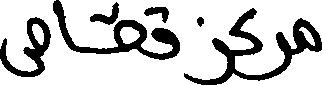X: (0, 12, 48, 81), (186, 12, 232, 84), (234, 3, 262, 84), (115, 0, 145, 59), (151, 2, 176, 64), (264, 27, 290, 84), (295, 13, 321, 58), (55, 0, 71, 54)
